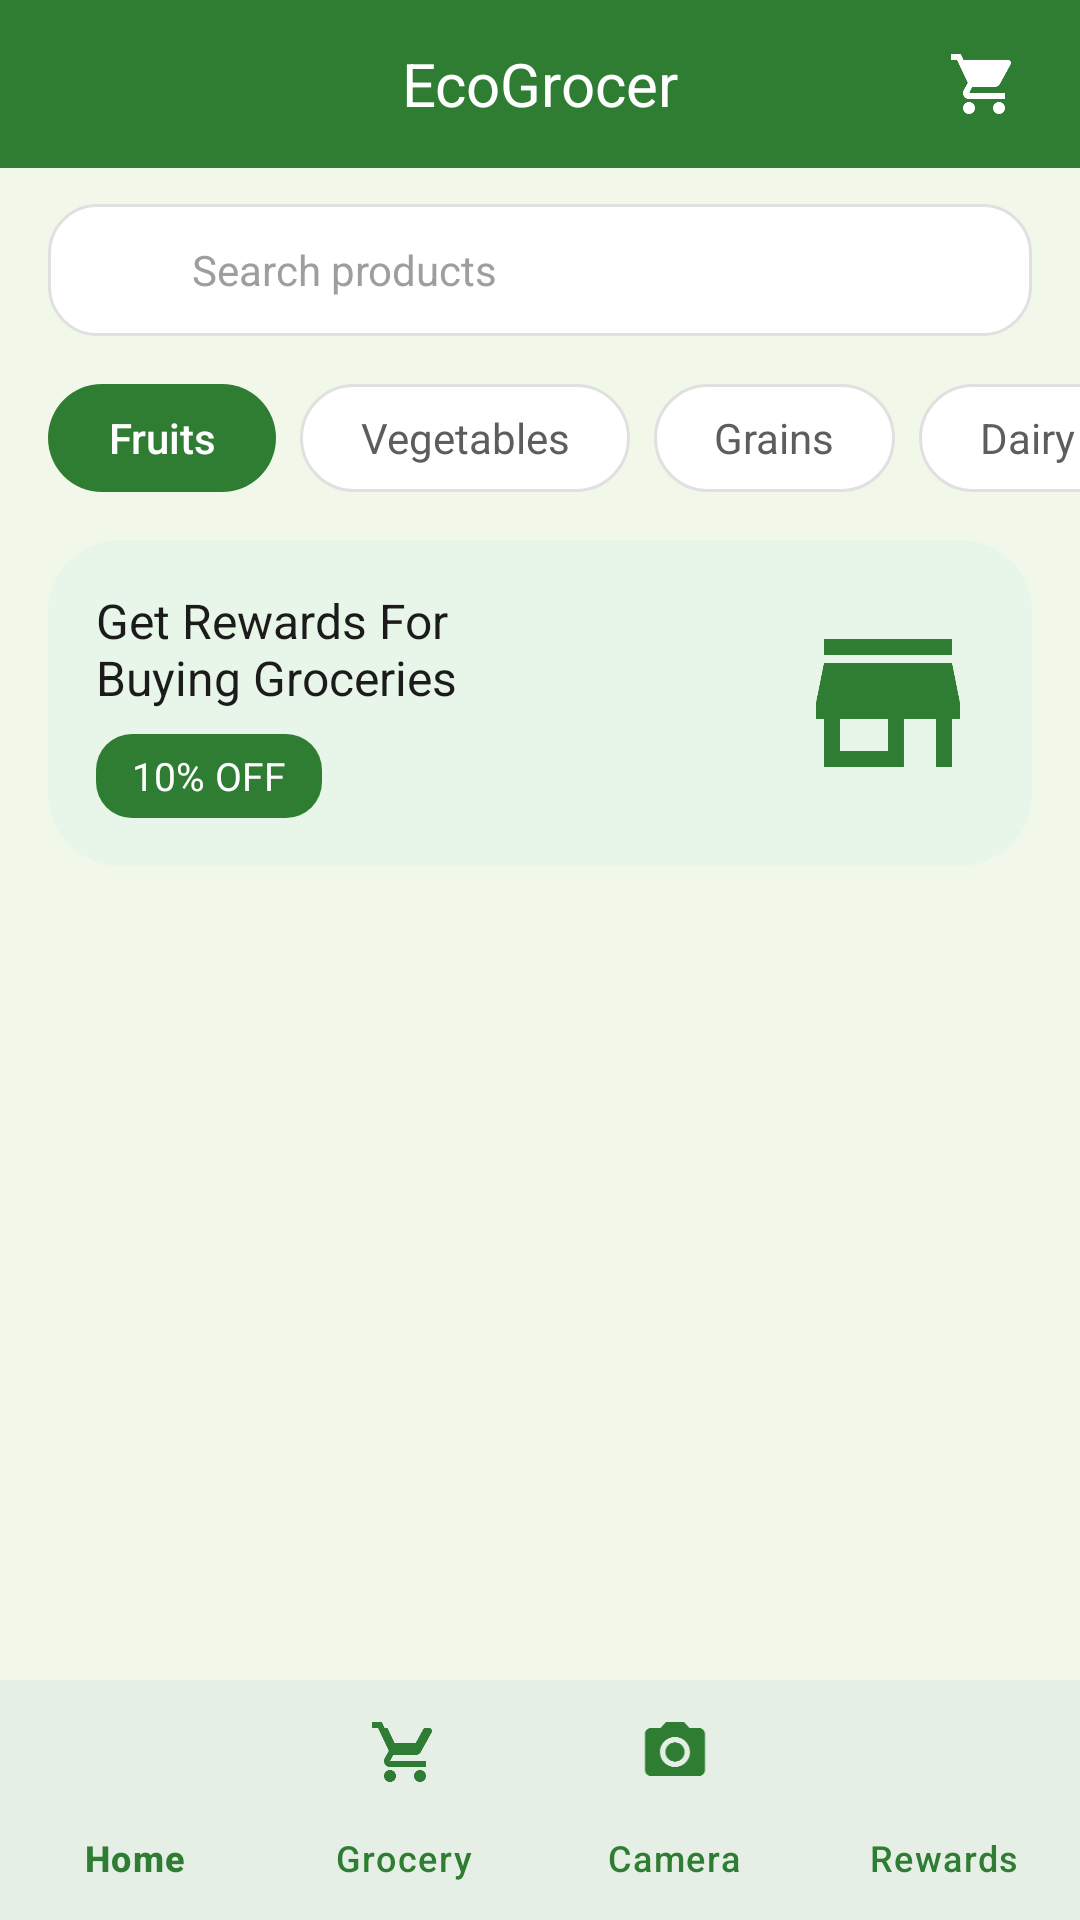

Point at icon controls on the screen. Image size 1080px x 1920px, points as [x,y].
Cart: [981,84]
